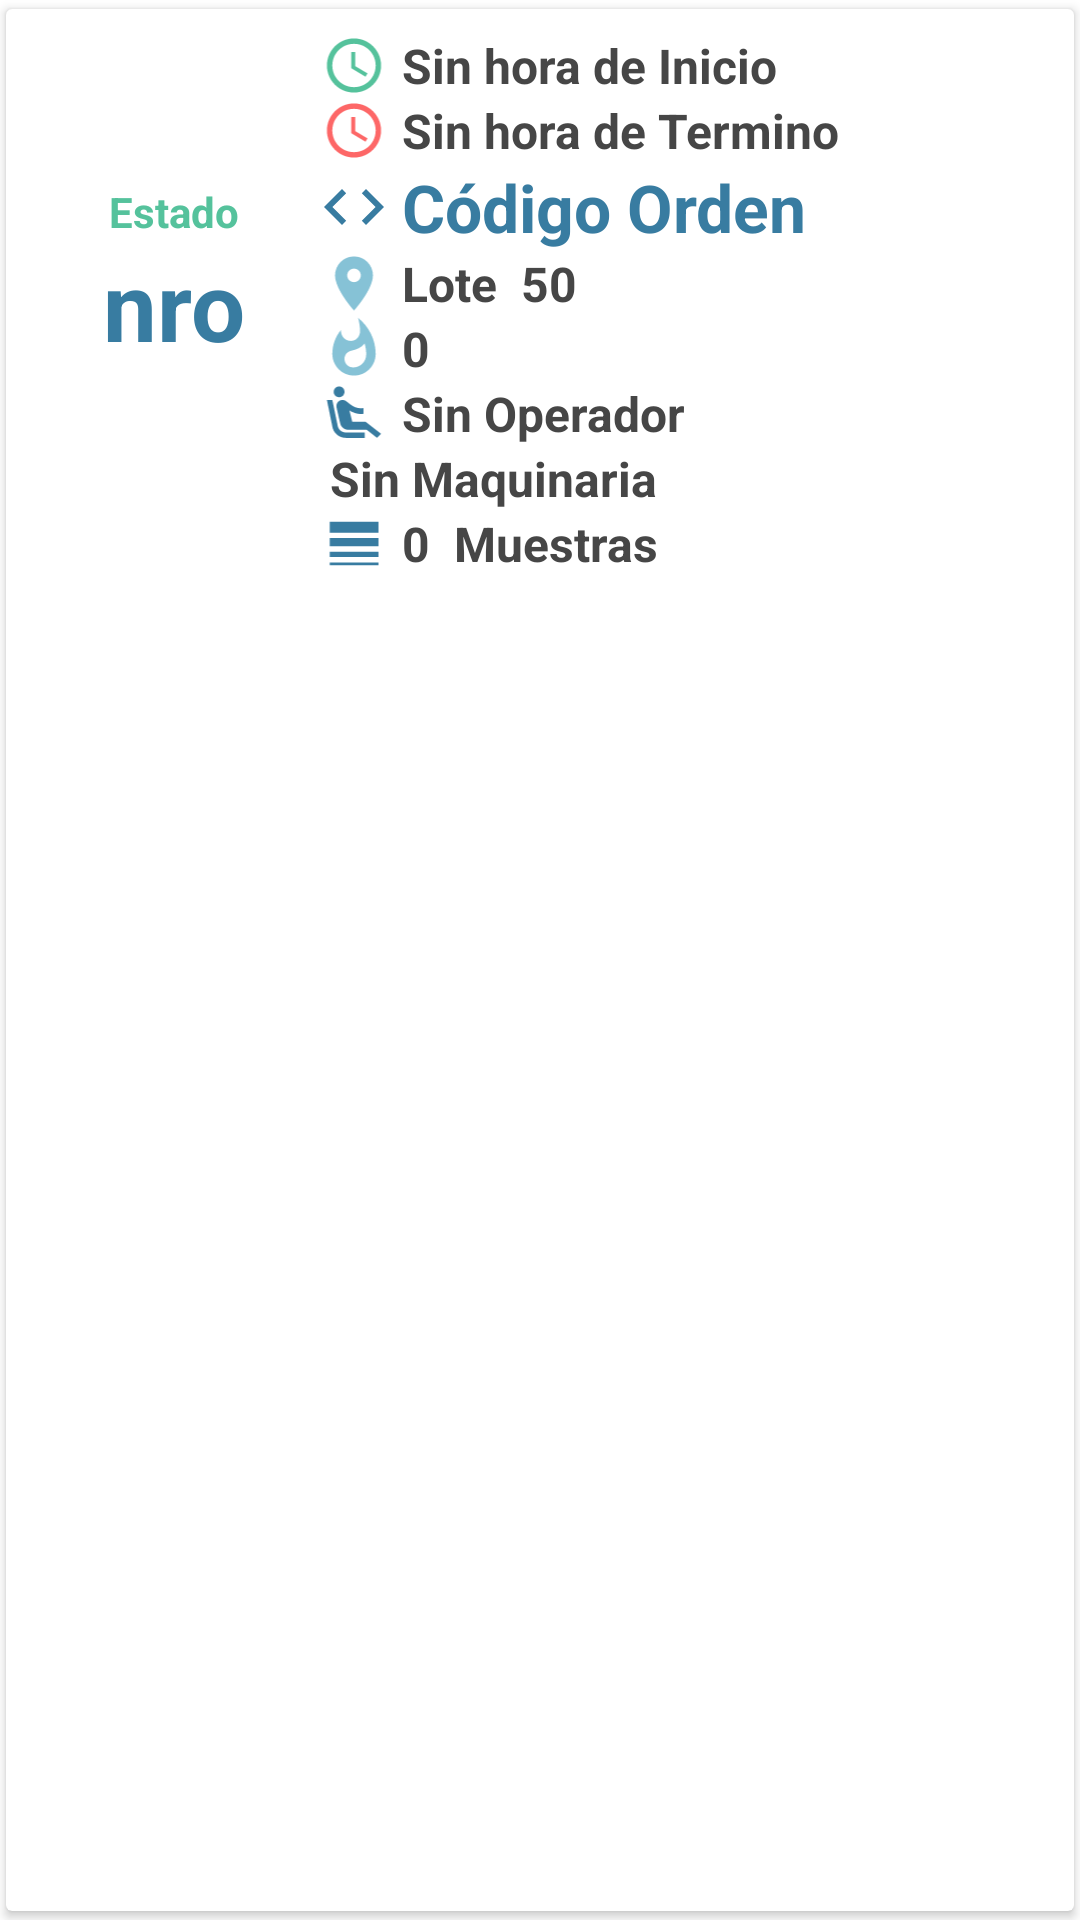

Where icons sit on this 1080x1920 app screen, as (x1, y1, x2, y2):
code: (324, 189, 384, 225)
driver: (326, 386, 381, 438)
line weight: (329, 521, 379, 566)
place: (334, 256, 374, 310)
time: (326, 38, 382, 93), (326, 103, 382, 158)
whatshot: (332, 318, 376, 376)
